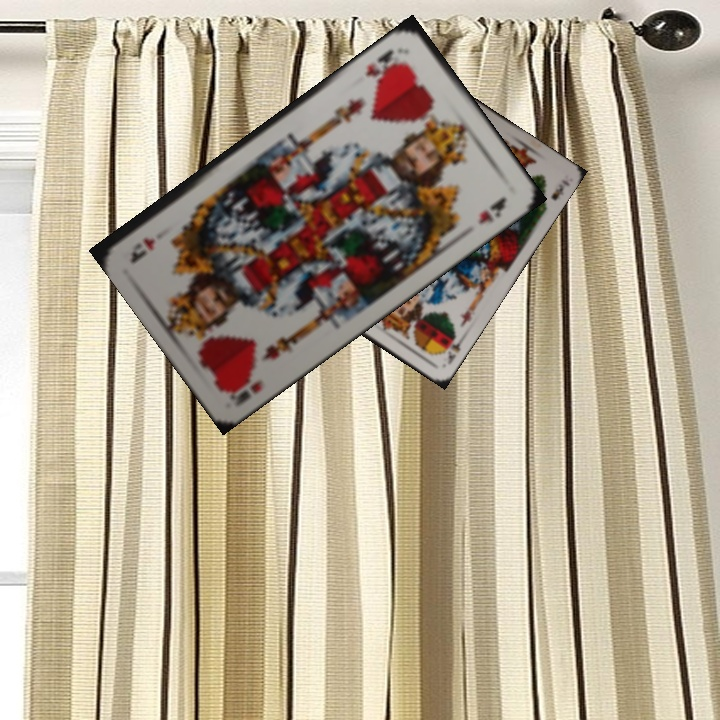HK: (361, 45, 408, 84), (224, 370, 265, 409)
SK: (440, 331, 465, 367)
